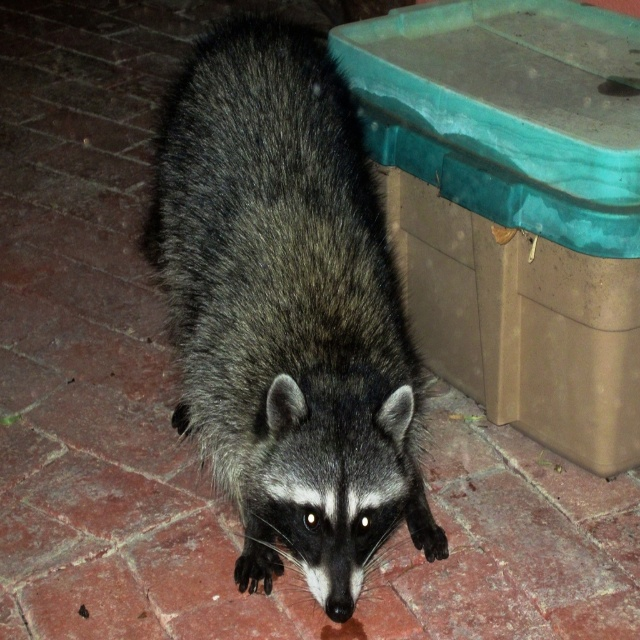Raccoon: (134, 10, 448, 625)
